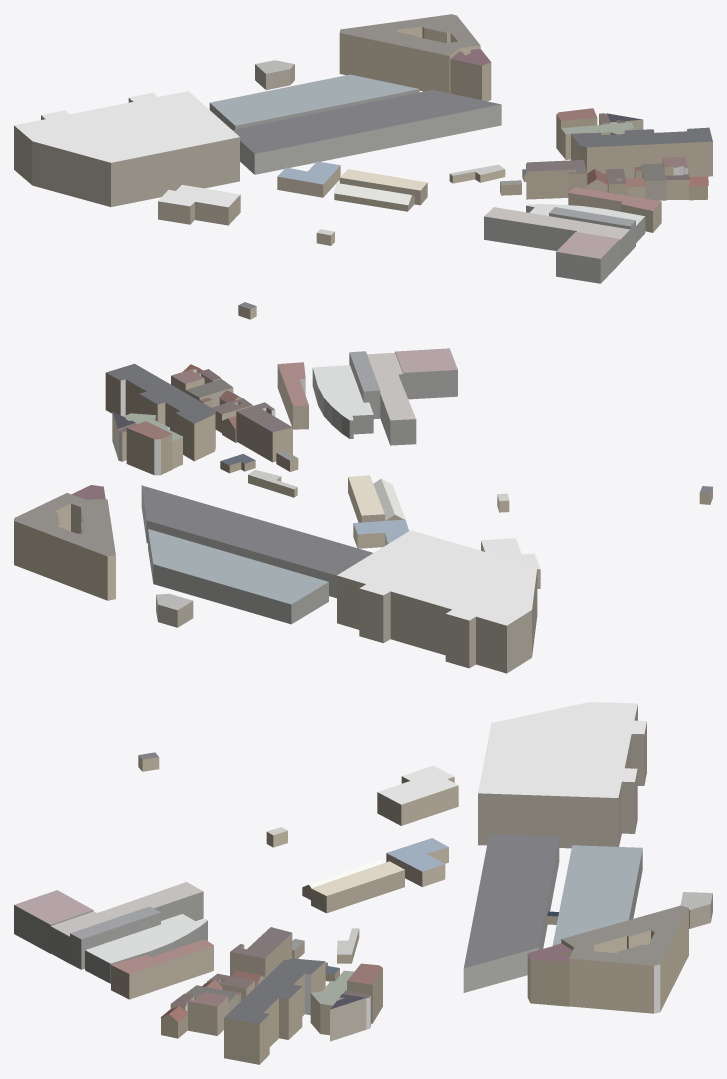
3 renders of one model, top to bottom at view 1: azimuth 30°, elevation 25°; view 2: azimuth 150°, elevation 25°; view 3: azimuth 270°, elevation 25°, orthographic. The views are drawn at different scales.
Parts seen in each view (by area): view 1: tuile; view 2: tuile; view 3: tuile.
Part boxes in pixels (x1=…): tuile: x1=14, y1=14, x2=712, y2=319; tuile: x1=14, y1=348, x2=712, y2=673; tuile: x1=14, y1=702, x2=712, y2=1064.
Size of the model in its own units: 261 by 22.66 by 252.
